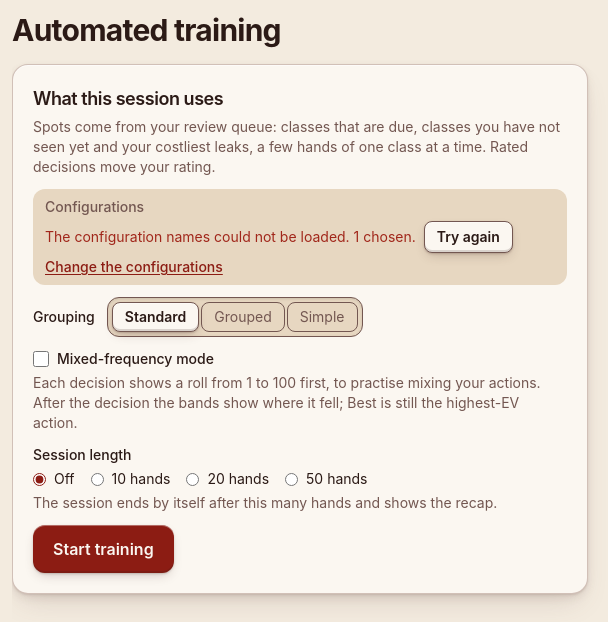
Scenario: R4.10 automated start › R4.10 a failed /configs read says so with Try again, which reads the names again
The width and height of the screenshot is (608, 622).
Expected: the heading "Automated training" is shown, [12, 12, 281, 48]
Expected: the message shows "The configuration names could not be loaded. 1 chosen.", [45, 228, 416, 245]
Click the button "Try again".
click(468, 237)  # box [424, 221, 513, 253]
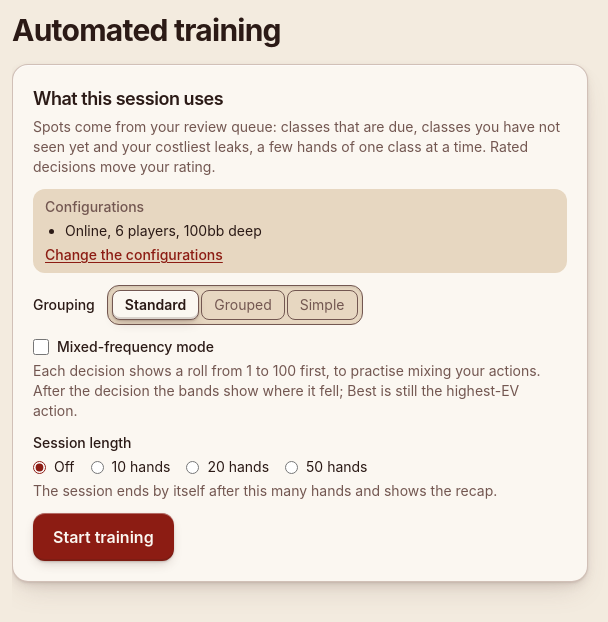
Result: the list with test id "scope-list" shows "Online, 6 players" at [65, 222, 262, 239]
